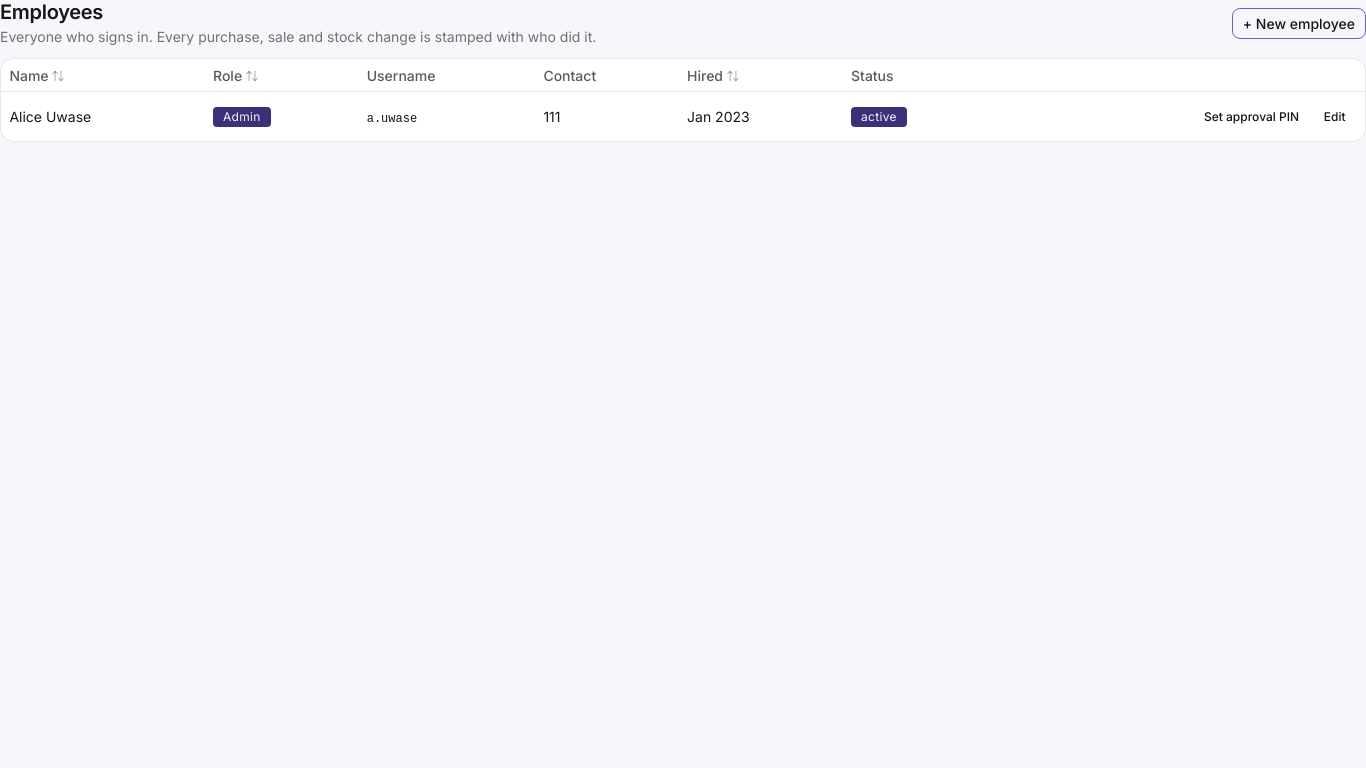
EmployeesPageClient › opens the create dialog from the toolbar button
The image size is (1366, 768).
Expected: the text "Alice Uwase" is shown, [1,92,205,141]
Click the button "+ New employee".
click(1299, 24)  # box [1232,8,1365,39]
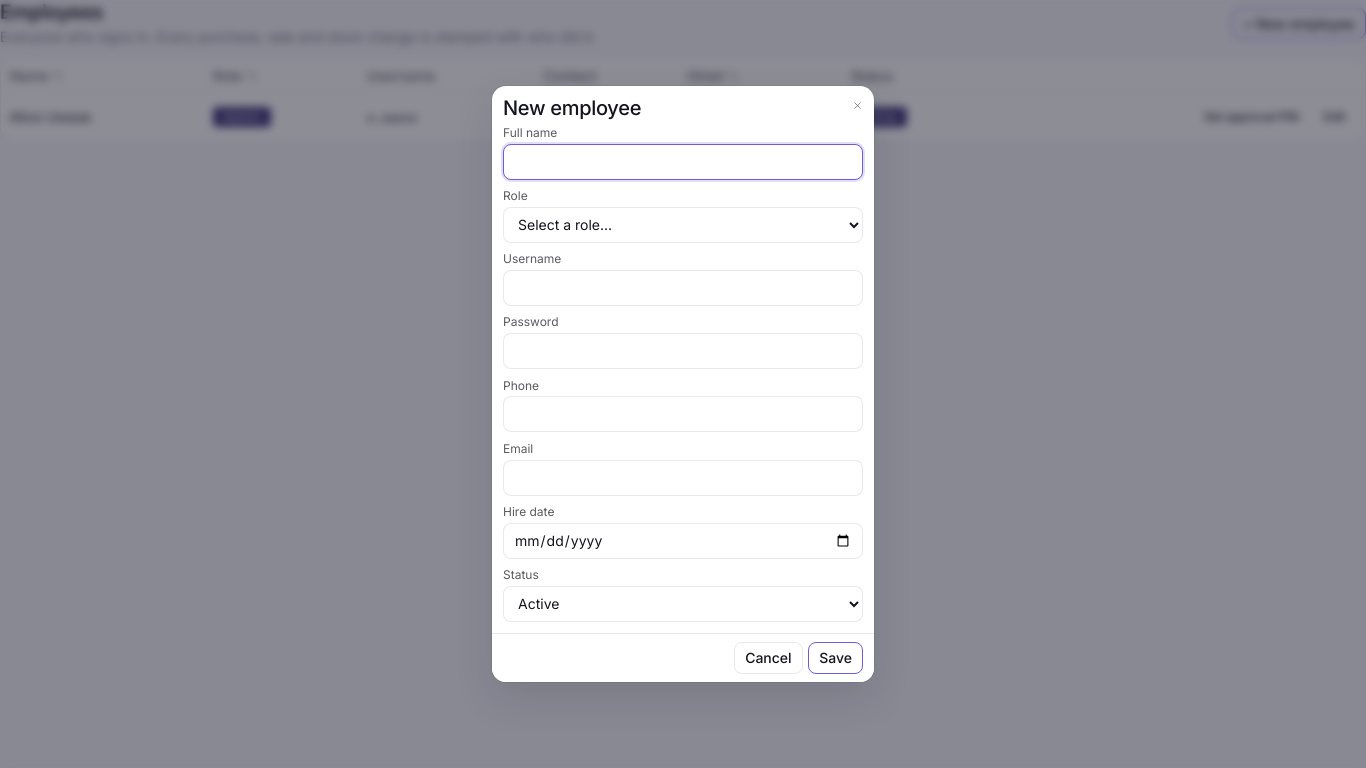
Expected: the heading "New employee" is shown, [503,96,641,120]
